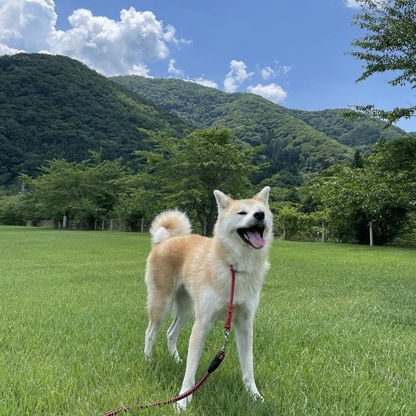akita: (138, 182, 281, 416)
